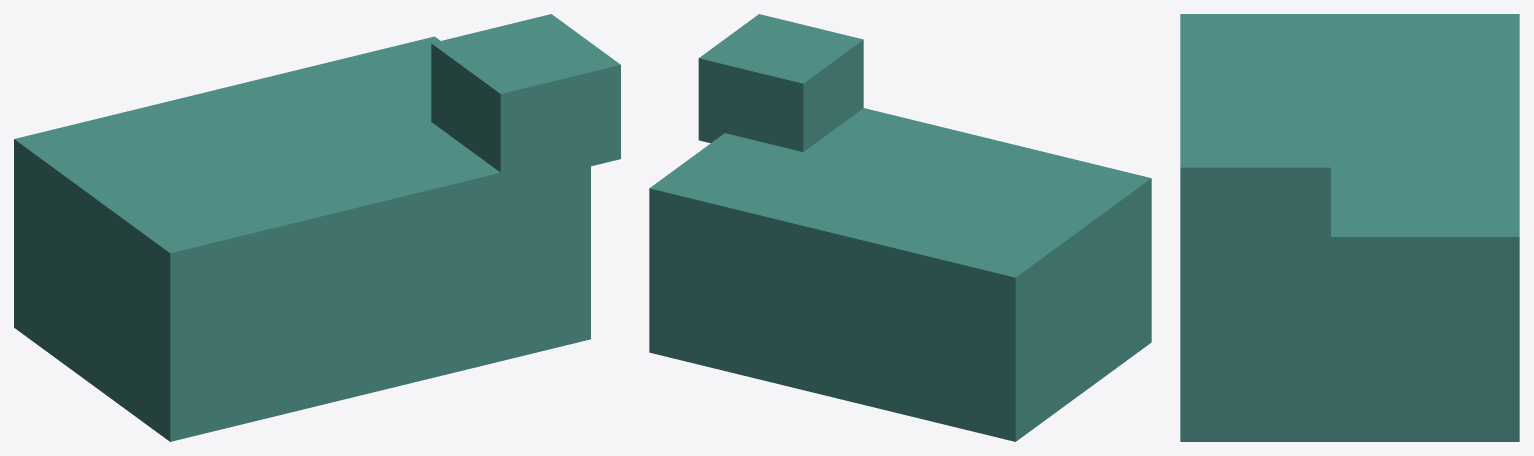
File: iem.glb
3 renders of one model, left to right at view 1: azimuth 30°, elevation 25°; view 2: azimuth 150°, elevation 25°; view 3: azimuth 270°, elevation 25°, orthographic. The views are drawn at different scales.
Parts seen in each view (by area): view 1: iem; view 2: iem; view 3: iem.
Part boxes in pixels (left/top/right/bottom): iem: left=14, top=14, right=620, bottom=441; iem: left=649, top=14, right=1151, bottom=441; iem: left=1180, top=14, right=1519, bottom=441.
Bounding box in the file's own units: 0.3 × 0.17 × 0.18.
